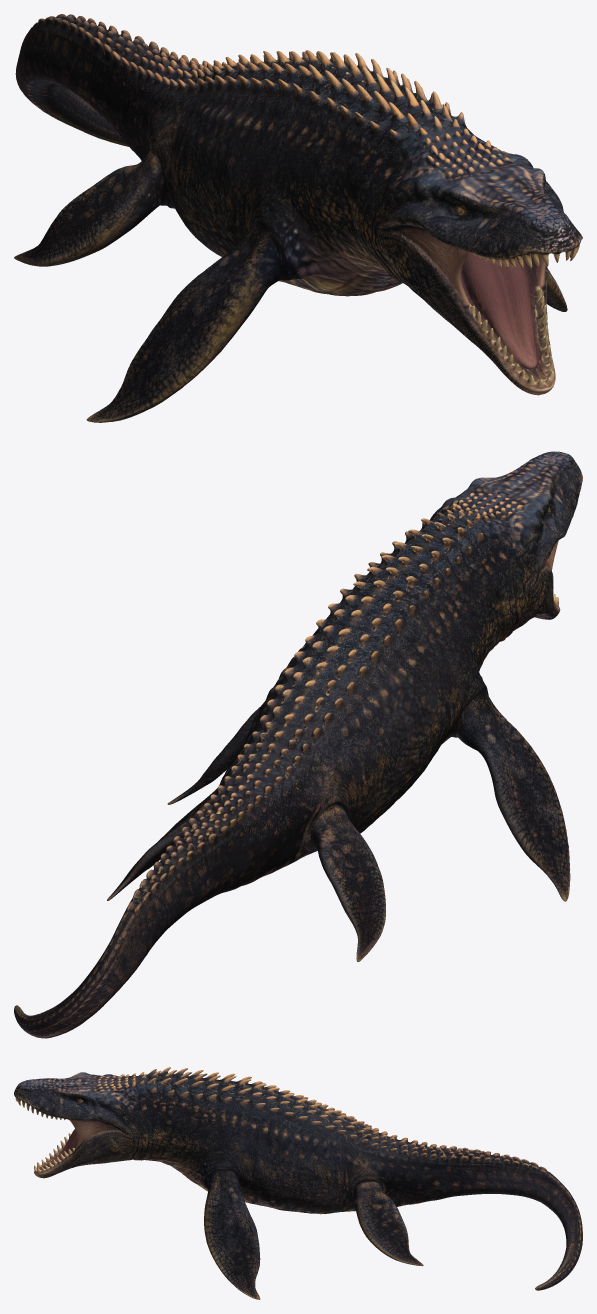
File: SM_mosasaurus_highpoly.fbx
3 views of the same model, one above another, from view 1: azimuth 30°, elevation 25°; view 2: azimuth 150°, elevation 25°; view 3: azimuth 270°, elevation 25° (orthographic). The views are drawn at different scales.
Parts seen in each view (by area): view 1: Mesh_0; view 2: Mesh_0; view 3: Mesh_0.
Boxes of the visible parts, x1,y1,x2,y2 form: Mesh_0: (14, 14, 582, 422); Mesh_0: (14, 451, 582, 1038); Mesh_0: (14, 1067, 582, 1299).
Bounding box in the file's own units: 93.59 × 68.35 × 190.
1 material, 1 textured.
